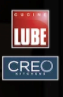creo: (1, 54, 60, 81)
lube: (11, 8, 50, 49)
lube creo: (1, 5, 60, 82)
